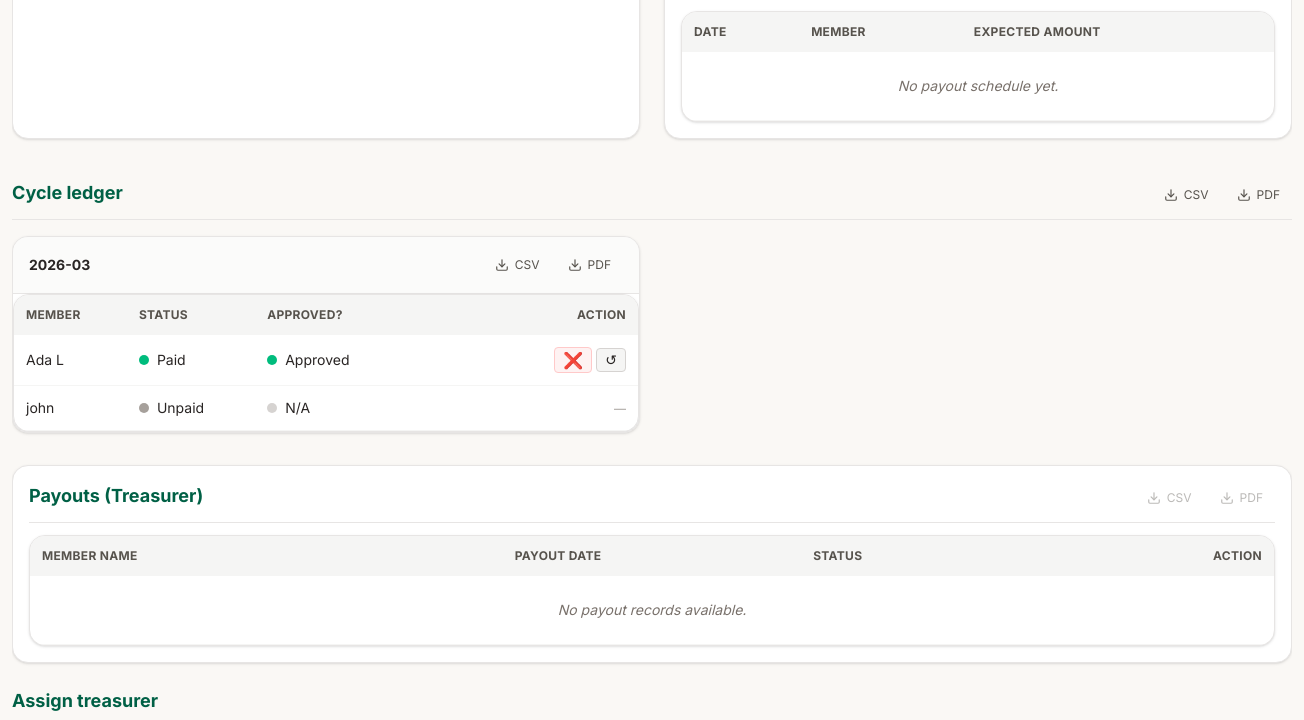
Test case: Payments › treasurer can reset an approved contribution to pending
The image size is (1304, 720).
(page scrolled)
Expected: the heading "Cycle ledger" is shown, [12,179,123,207]
Expected: the text "Approved" is shown, [285,350,350,370]
Click the button named "reset approval to pending for ada l".
click(611, 360)  # box [596,348,626,372]
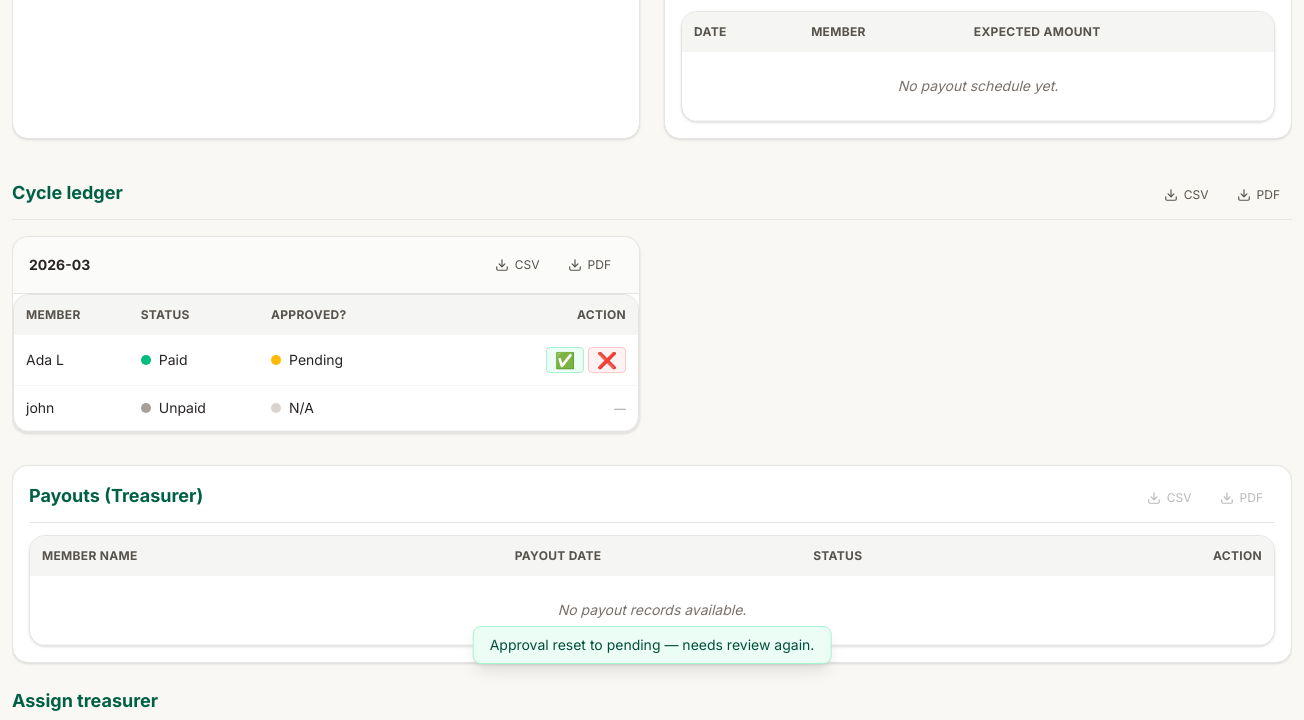
Expected: the text "Approval reset to pending — needs review again." is shown, [473,626,831,664]
